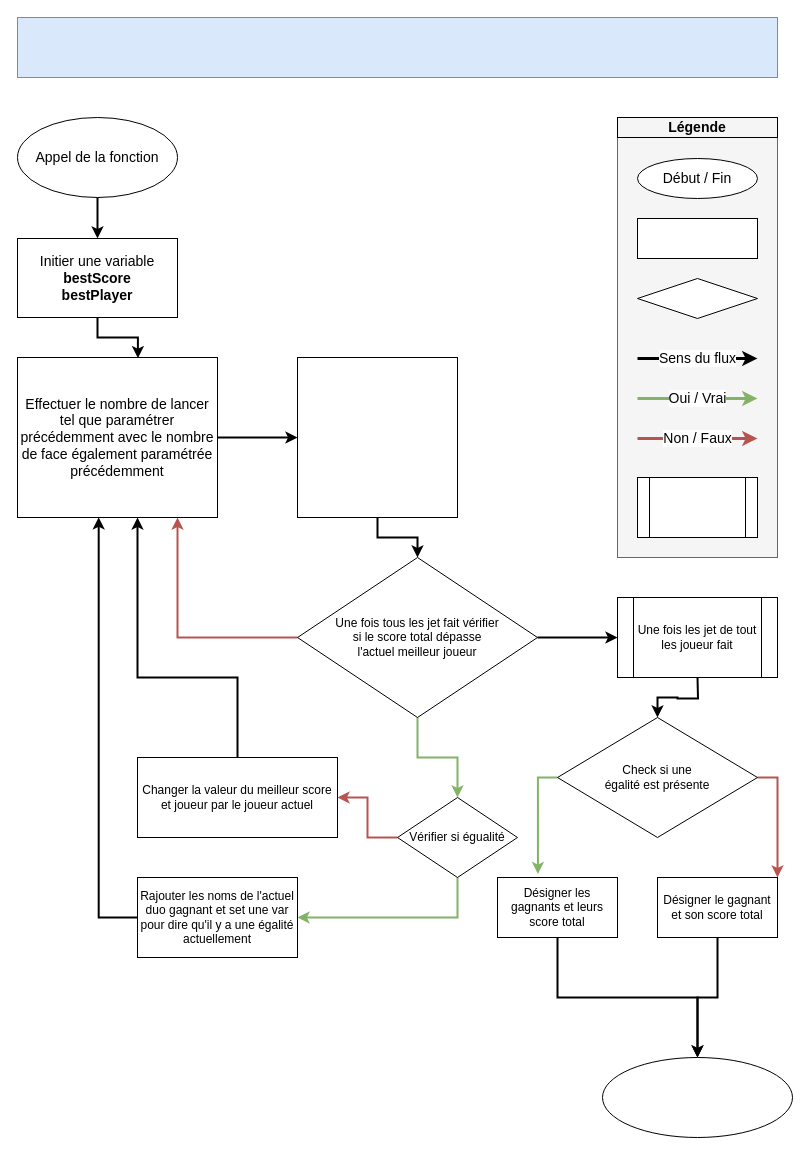
Image size: 810x1155. Some labels were removed from this diagram. Here are the shapes that lost their labels. From the top down, the centre of each, then its label:
At (397,47): "Jet de dée".
At (697,238): "Étape / Fonction".
At (697,298): "Choix".
At (377,437): "A chaque jet écrire le jet en question et calculer le score du joueur actuel".
At (697,507): "Lien ver autre page".
At (697,1097): "Fin du de la fonction".
